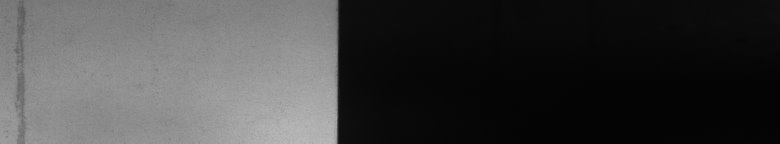hd: (6, 4, 31, 136)
